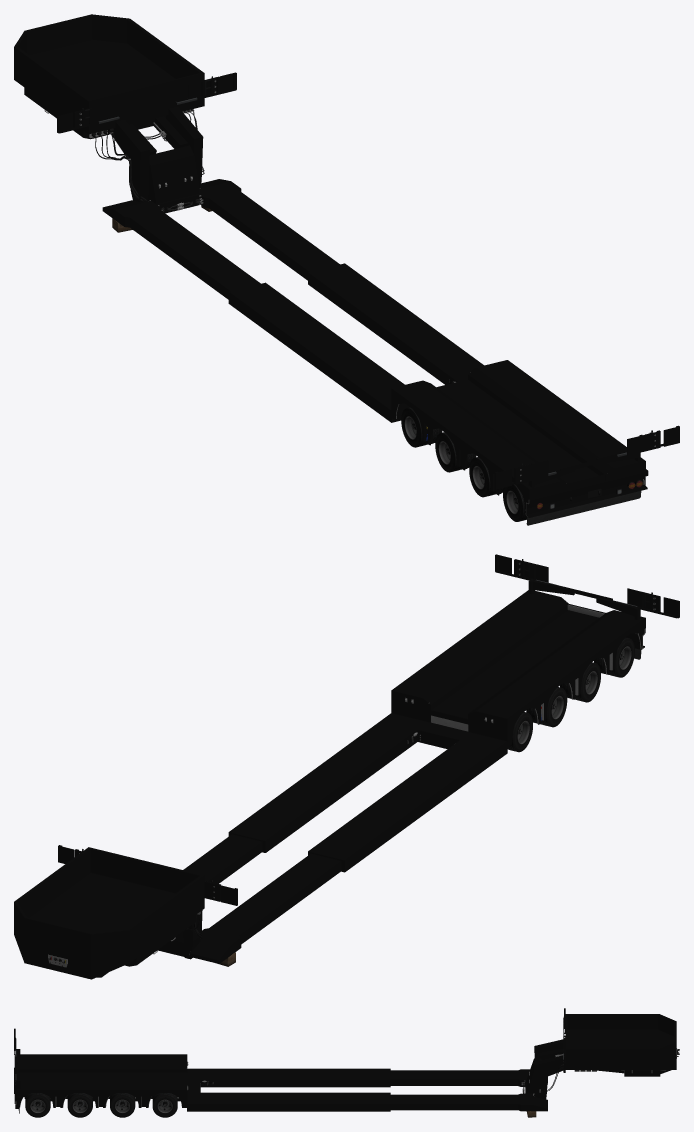
Rendered from lowloader_with_colors.glb.
The picture shows the model from 3 angles, top to bottom: view 1: azimuth 30°, elevation 25°; view 2: azimuth 150°, elevation 25°; view 3: azimuth 270°, elevation 25°; orthographic projection. The views are drawn at different scales.
Visible parts, largest first — view 1: piece_7, piece_15, piece_6, piece_1.001; view 2: piece_7, piece_18, piece_15, piece_21, piece_1, piece_24; view 3: piece_7, piece_7.003, piece_7.002, piece_7.004, piece_7.001, piece_6.
Part boxes in pixels (<box>): piece_7: <box>14,14,648,517</box>; piece_15: <box>521,432,653,487</box>; piece_6: <box>44,109,455,383</box>; piece_1.001: <box>526,491,641,525</box>; piece_7: <box>14,590,645,979</box>; piece_18: <box>514,559,660,616</box>; piece_15: <box>521,561,653,619</box>; piece_21: <box>495,554,679,618</box>; piece_1: <box>189,602,644,954</box>; piece_24: <box>531,563,643,607</box>; piece_7: <box>14,1014,676,1111</box>; piece_7.003: <box>110,1093,135,1117</box>; piece_7.002: <box>67,1093,92,1117</box>; piece_7.004: <box>152,1093,177,1117</box>; piece_7.001: <box>25,1093,50,1117</box>; piece_6: <box>200,1037,676,1093</box>.
Bounding box in the file's own units: 4.05 × 2.33 × 20.33.
Materials: 26 (23 with a texture image).
